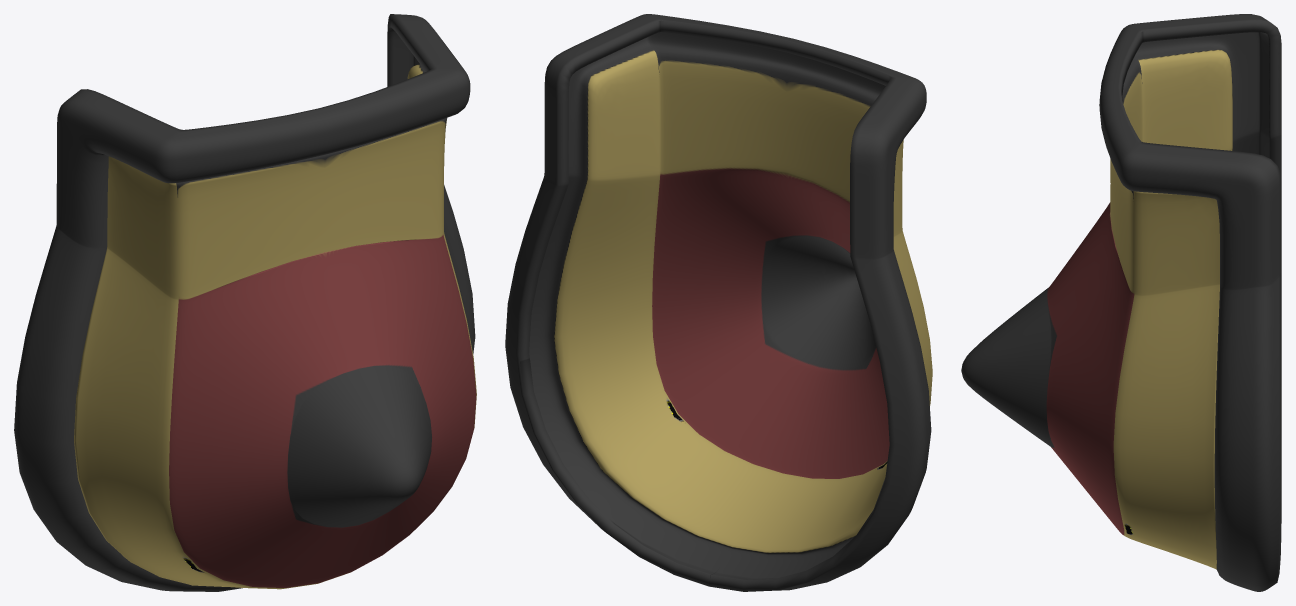
3 views of the same model, side by side, from view 1: azimuth 30°, elevation 25°; view 2: azimuth 150°, elevation 25°; view 3: azimuth 270°, elevation 25° (orthographic). The views are drawn at different scales.
Parts seen in each view (by area): view 1: 1; view 2: 1; view 3: 1.
Part boxes in pixels (x1,y1,x2,y2): 1: (14, 14, 476, 591); 1: (505, 14, 932, 591); 1: (961, 14, 1281, 591).
Bounding box in the file's own units: 1.21 × 1.36 × 0.8217.
1 material, 1 textured.
